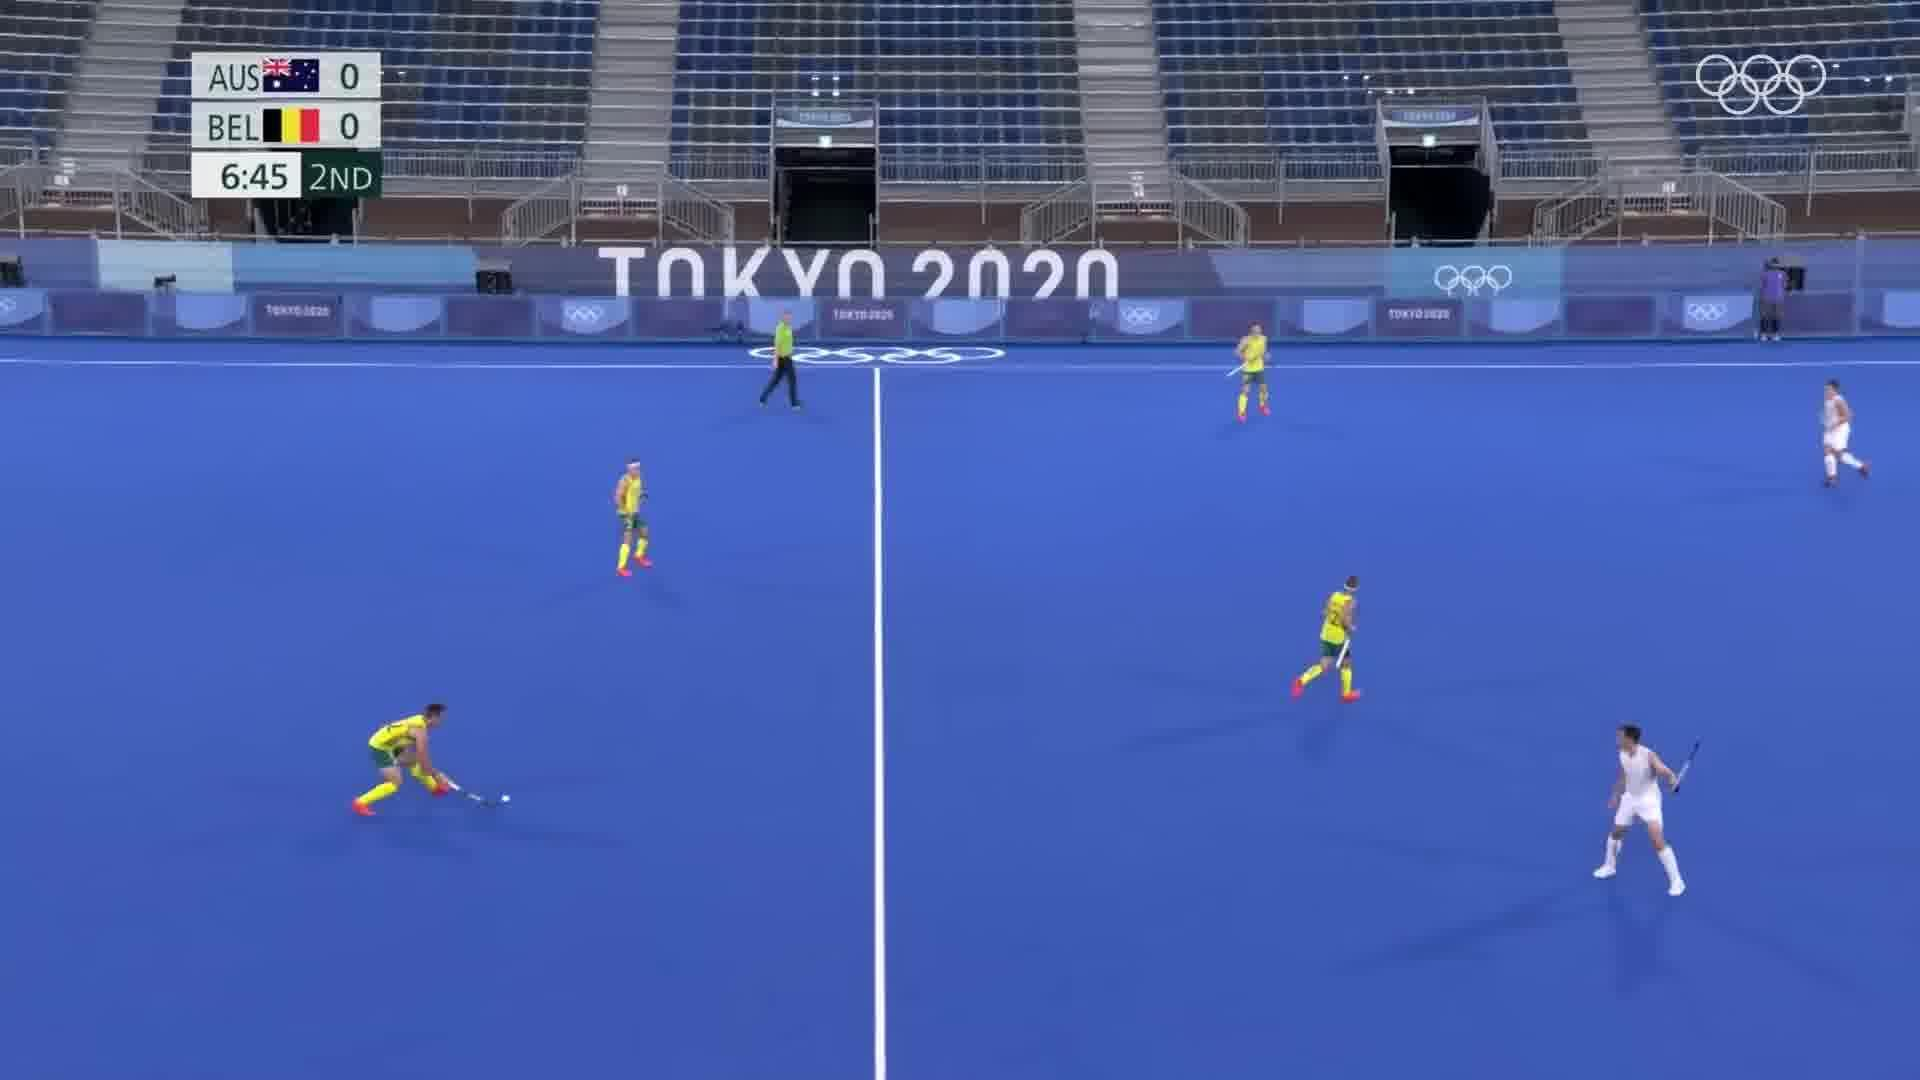ball: (495, 789, 524, 808)
